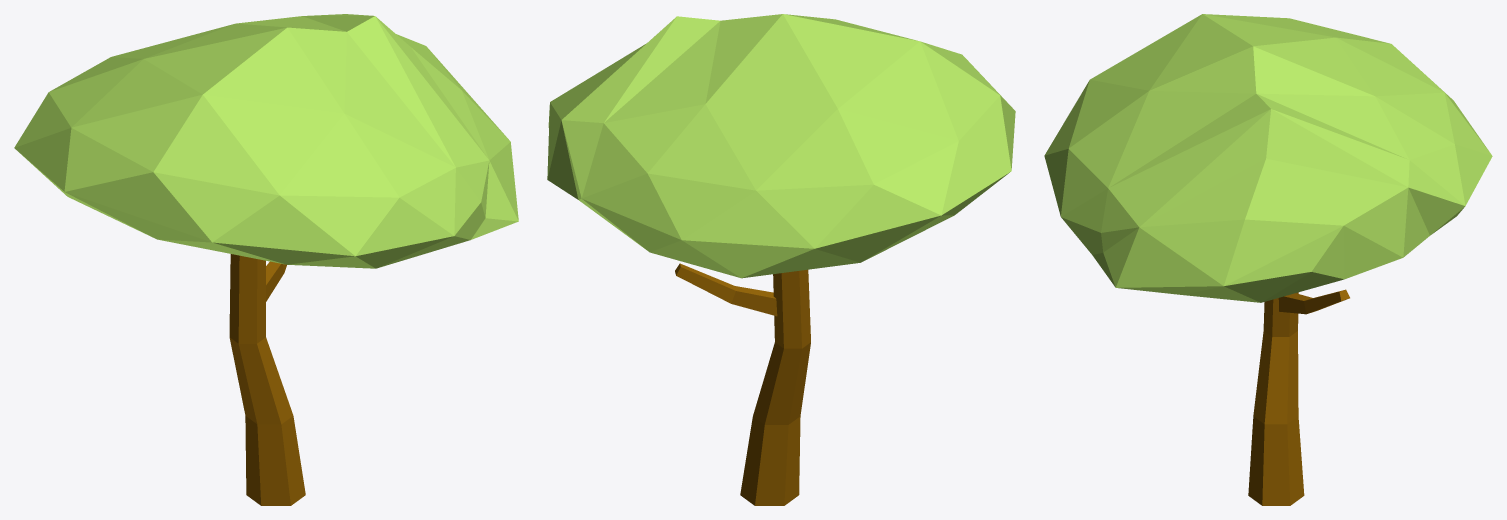
File: tree3.glb
The picture shows the model from 3 angles, left to right: view 1: azimuth 30°, elevation 25°; view 2: azimuth 150°, elevation 25°; view 3: azimuth 270°, elevation 25°; orthographic projection. The views are drawn at different scales.
Parts seen in each view (by area): view 1: Tree3; view 2: Tree3; view 3: Tree3.
Part boxes in pixels (x1,y1,x2,y2): Tree3: (14, 14, 518, 505); Tree3: (547, 14, 1015, 505); Tree3: (1044, 14, 1492, 505).
Bounding box in the file's own units: 15.52 × 16.27 × 14.72.
